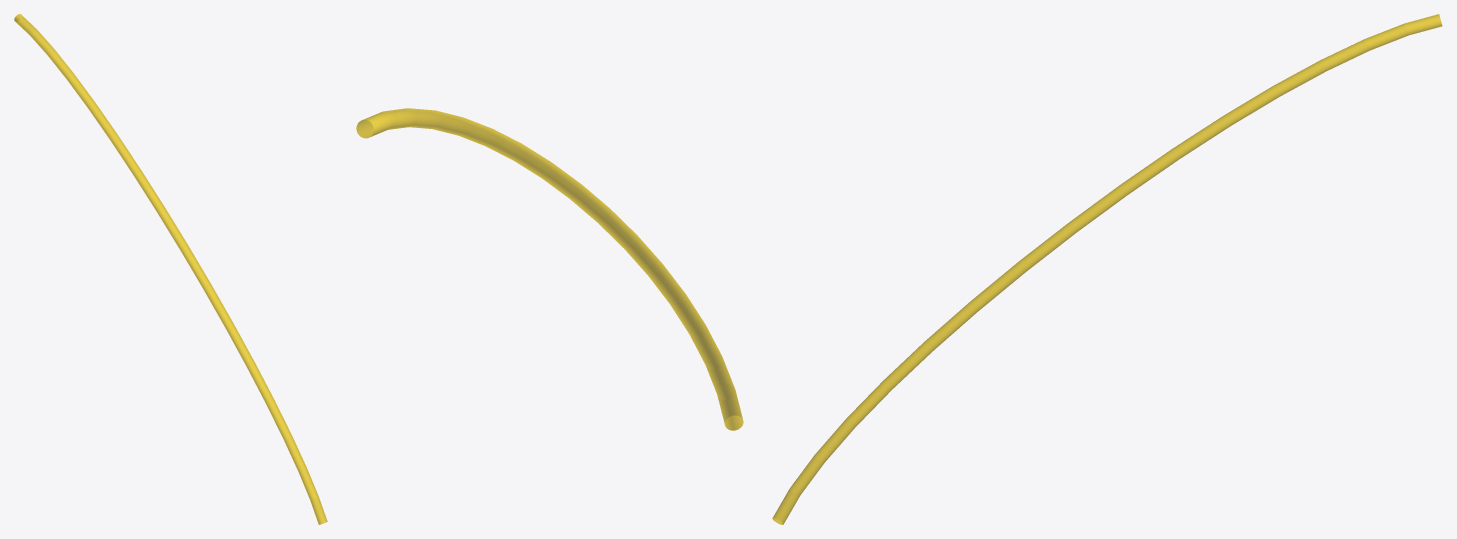
The model's file is Event_75125125_track_37.fbx.
3 renders of one model, left to right at view 1: azimuth 30°, elevation 25°; view 2: azimuth 150°, elevation 25°; view 3: azimuth 270°, elevation 25°, orthographic. The views are drawn at different scales.
Visible parts, largest first — view 1: Model; view 2: Model; view 3: Model.
Boxes of the visible parts, x1,y1,x2,y2 form: Model: (14, 14, 327, 524); Model: (356, 108, 743, 430); Model: (772, 14, 1442, 524).
Size of the model in its own units: 0.3337 by 1.62 by 2.09.
